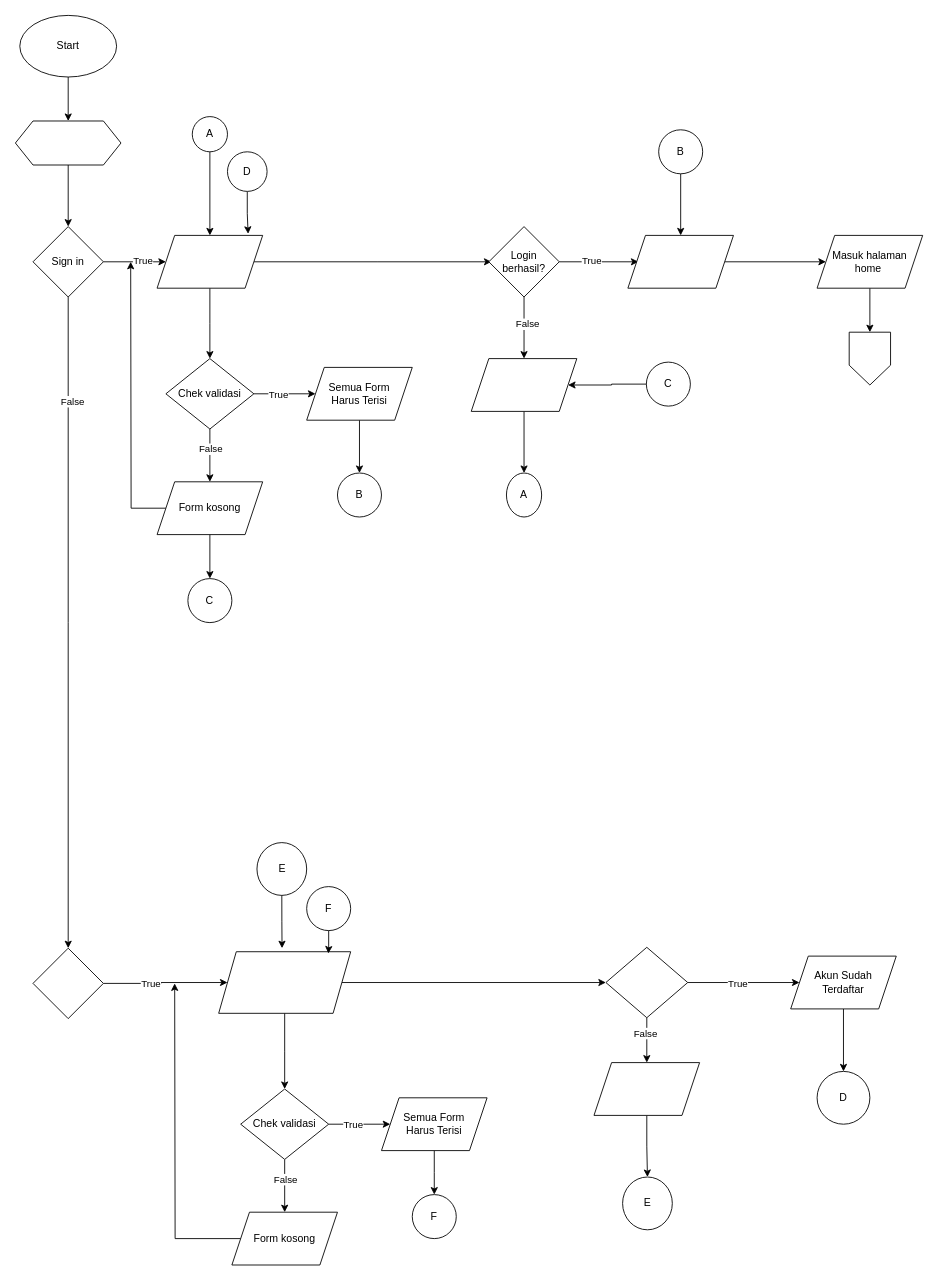
Image size: 938x1280. Some labels were removed from this diagram. The shapes that lost their labels are listed below. From the top down, each one's centre as x and y in pixels, then its label:
(x=68, y=142): Sign in & Sign up
(x=209, y=261): Input username & Pasword
(x=680, y=261): Login berhasil
(x=869, y=358): A1
(x=523, y=384): Login gagal
(x=67, y=983): Sign up
(x=284, y=982): Input username, input password & Confirmasi Password
(x=646, y=982): Akun sudah terdaftar?
(x=646, y=1088): Akun Blom terdaftar
